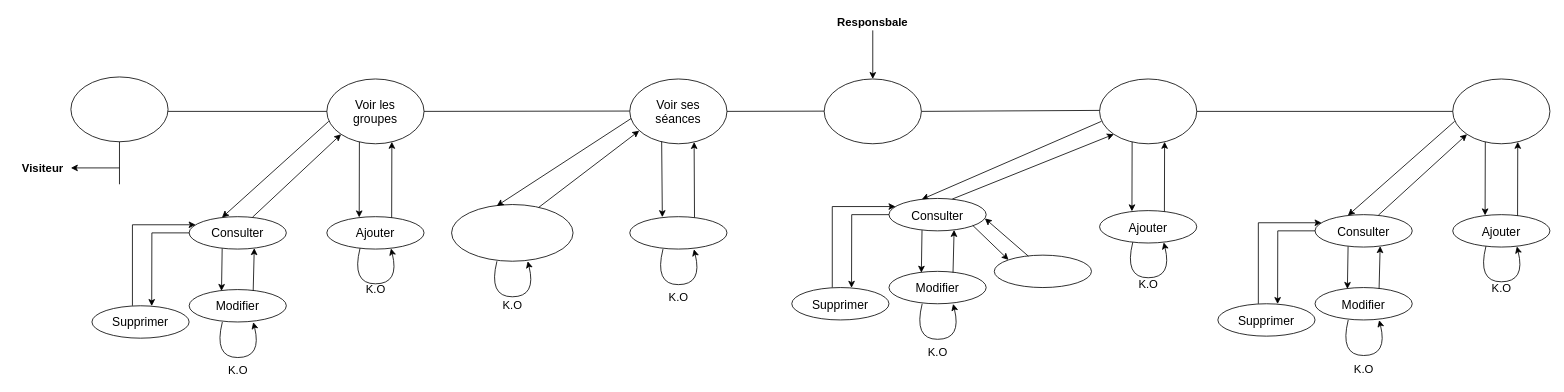
The diagram is 1564 pixels wide and 392 high, and some of its shapes have lost their labels. Each missing label, with the centre of its shape:
"Consulter/modifier présentiel" belongs at (512,232).
"Saisir présentiel" belongs at (678,232).
"Se déconnecter" belongs at (119,109).
"Voir le présentiel" belongs at (1042,271).
"Voir les matières" belongs at (1501,111).
"Voir les séances" belongs at (1148,111).
"Voir ses informations" belongs at (872,111).
